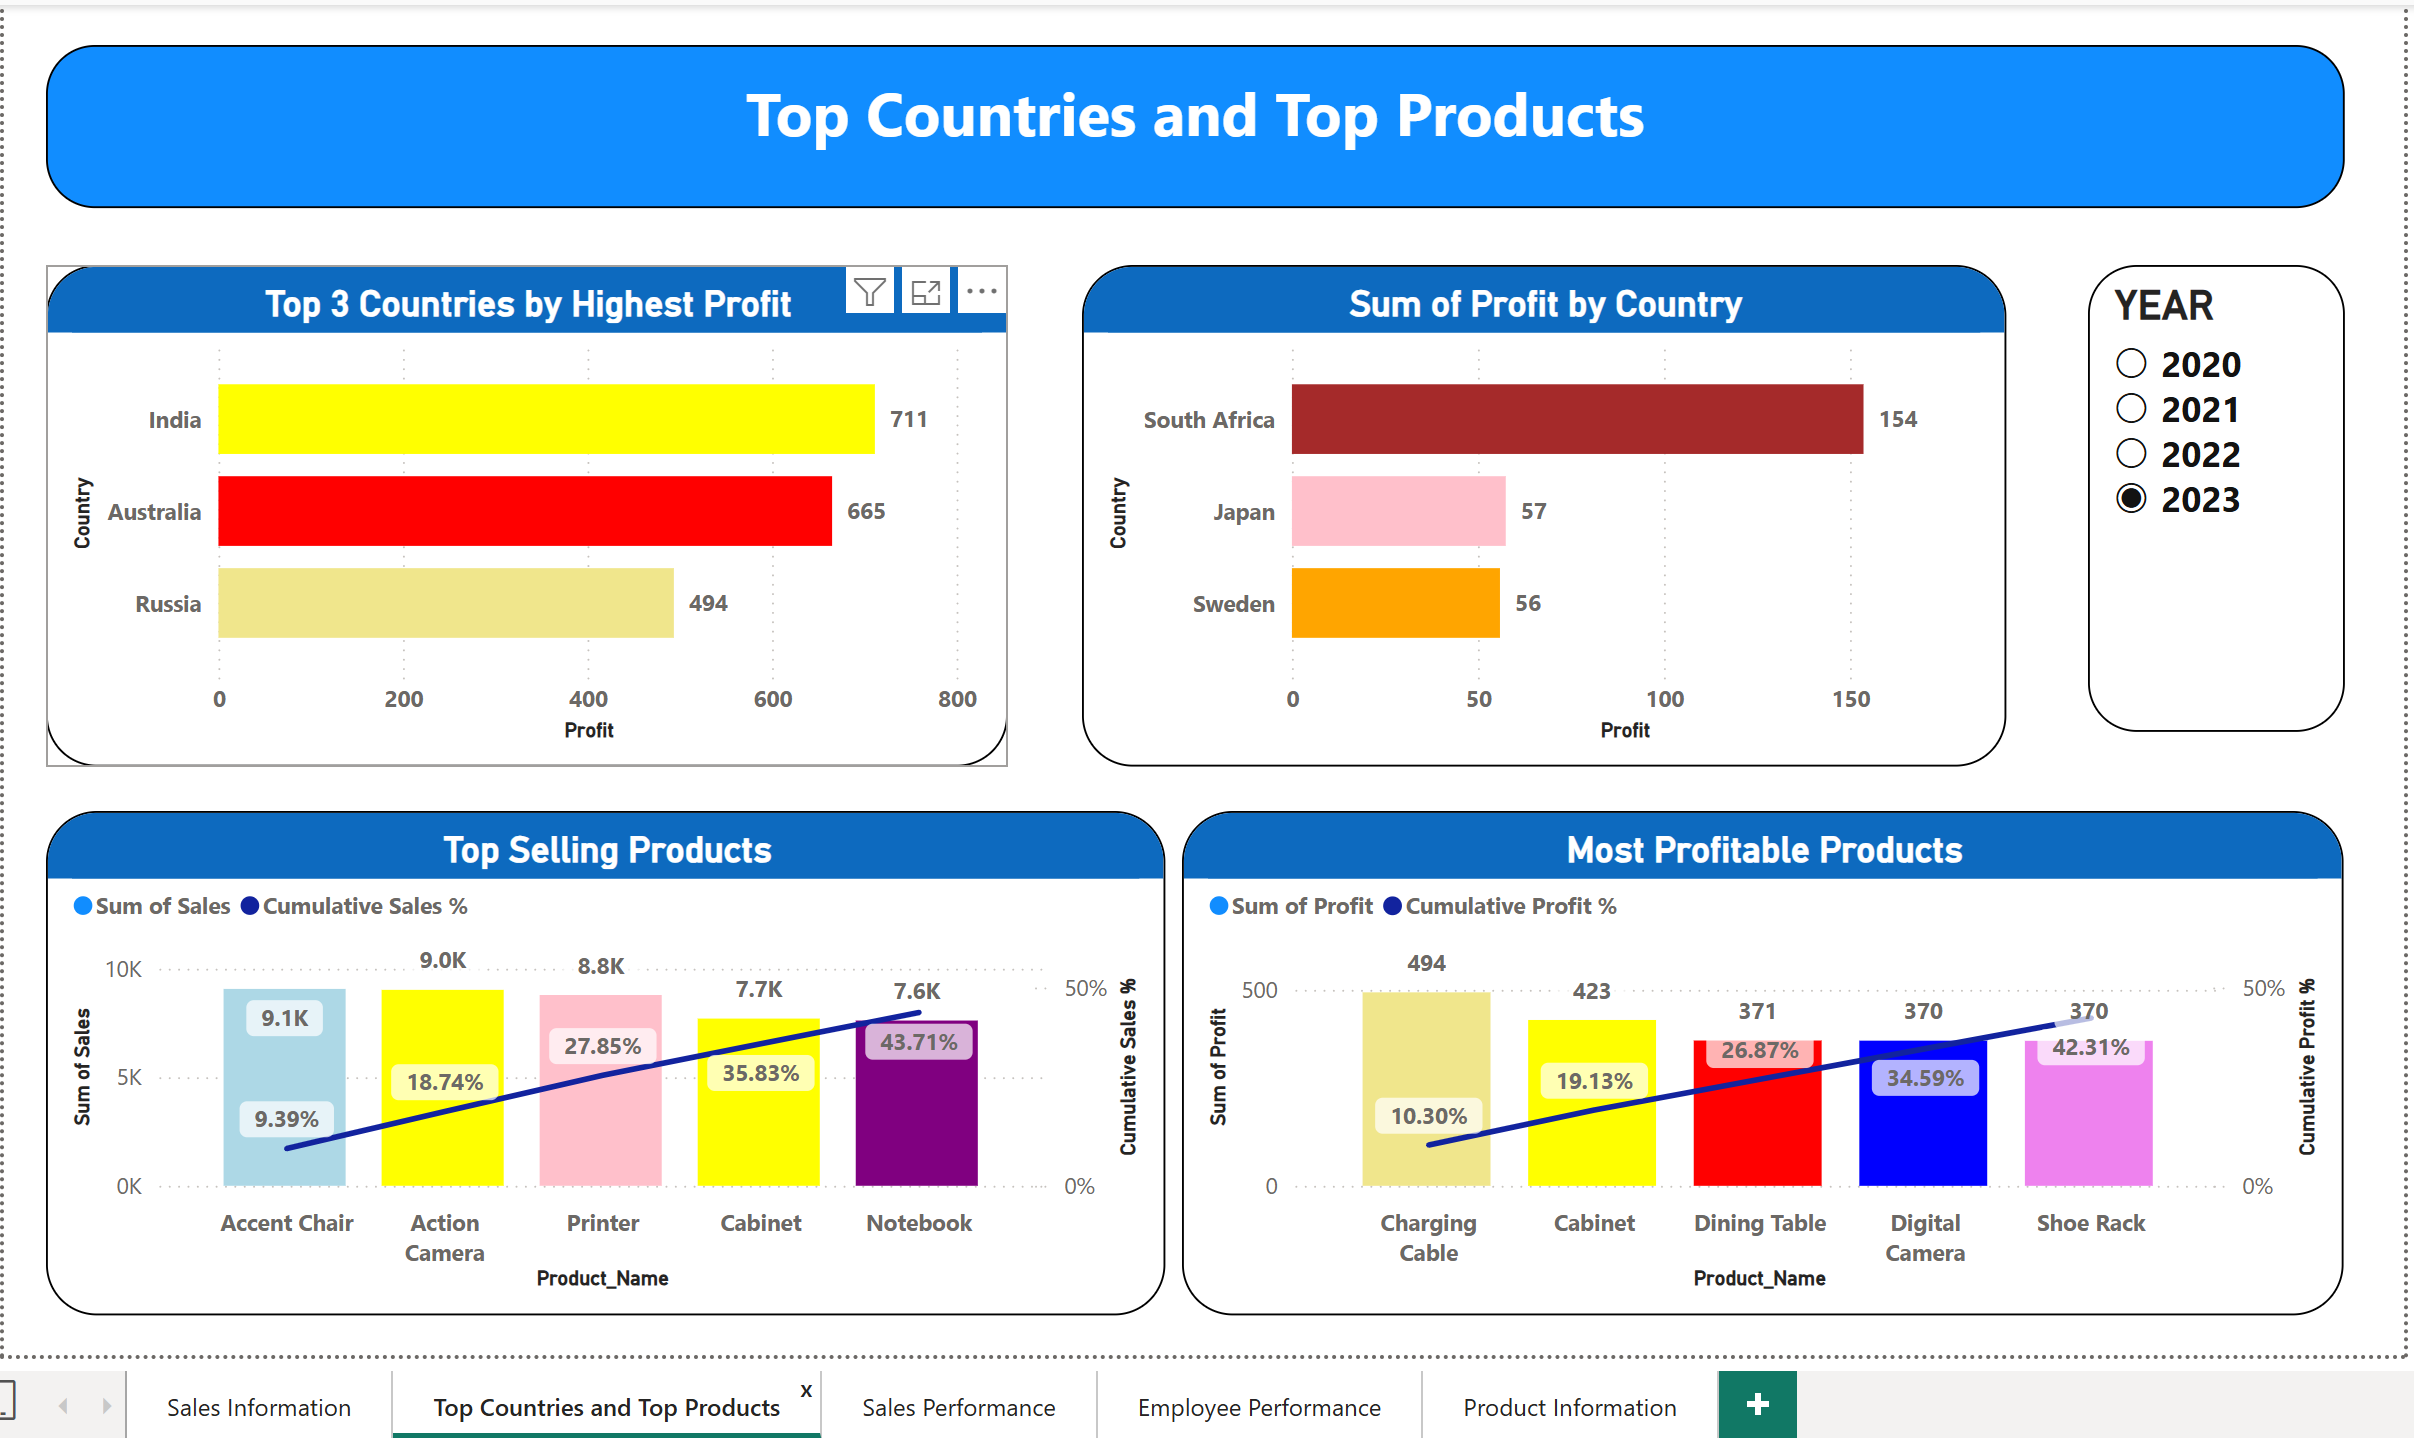

The page's visual inventory and layout, read from the dashboard file:
{"tool":"powerbi","page":{"name":"Top Countries and Top Products","canvas":[1280,720],"ordinal":1},"visuals":[{"type":"clusteredBarChart","title":"Top 3 Countries by Highest Profit","fields":{"Category":["Sales Information.Country"],"Y":["Sum(Sales Information.Profit)"]},"box":[22.4,138.4,512.8,267.6],"z":0},{"type":"clusteredBarChart","fields":{"Category":["Sales Information.Country"],"Y":["Sum(Sales Information.Profit)"]},"box":[574.7,138.4,493,267.6],"z":1000},{"type":"listSlicer","fields":{"Values":["Date.YEAR"]},"box":[1111.3,138.4,137.1,249.1],"z":2000},{"type":"lineClusteredColumnComboChart","title":"Most Profitable Products","fields":{"Category":["Product Information.Product_Name"],"Y":["Sum(Sales Information.Profit)"],"Y2":["Sales Information.Cumulative_profit_percent"]},"box":[628.8,429.7,619.6,268.9],"z":3000},{"type":"lineClusteredColumnComboChart","title":"Top Selling Products","fields":{"Category":["Product Information.Product_Name"],"Y":["Sum(Sales Information.Sales)"],"Y2":["Sales Information.Cumulative Sales %"]},"box":[22.4,429.7,597.2,268.9],"z":4000},{"type":"textbox","box":[22.4,21.1,1226,87],"z":5000}]}

Visuals, with their boxes in screenshot pixels (x1, y1, x2, y2):
"Top 3 Countries by Highest Profit" clusteredBarChart: 54,264,1008,761
clusteredBarChart - Sales Information.Country x Sum(Sales Information.Profit): 1081,264,1998,761
listSlicer - Date.YEAR: 2079,264,2334,727
"Most Profitable Products" lineClusteredColumnComboChart: 1182,805,2334,1306
"Top Selling Products" lineClusteredColumnComboChart: 54,805,1165,1306
textbox: 54,46,2334,207
